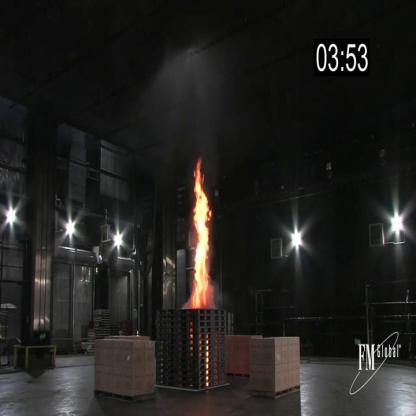fire: (188, 159, 213, 308)
